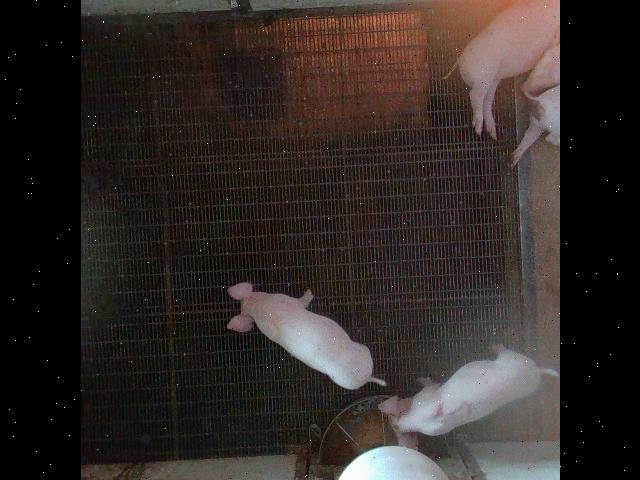pig-5: (378, 345, 557, 449)
